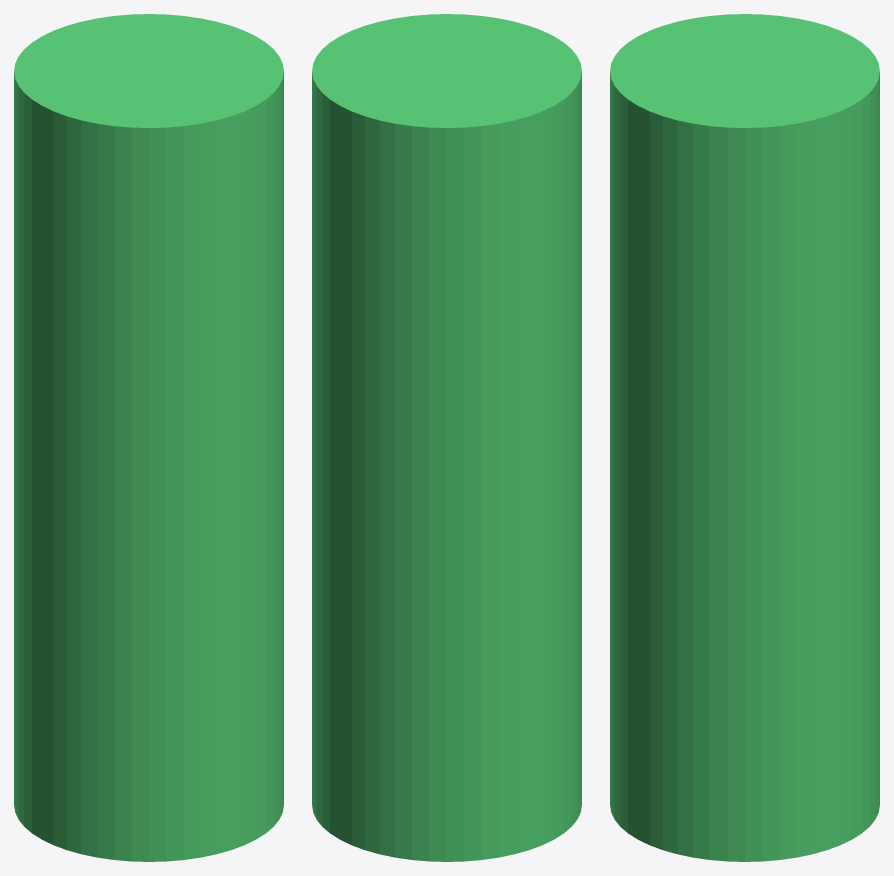
File: lf_fx_lods.gltf
The picture shows the model from 3 angles, left to right: view 1: azimuth 30°, elevation 25°; view 2: azimuth 150°, elevation 25°; view 3: azimuth 270°, elevation 25°; orthographic projection.
Visible parts, largest first — view 1: lf_fx_lods; view 2: lf_fx_lods; view 3: lf_fx_lods.
Part boxes in pixels (box(x1,y1,x2,y2)): lf_fx_lods: box(14, 14, 283, 861); lf_fx_lods: box(312, 14, 581, 861); lf_fx_lods: box(610, 14, 879, 861).
Size of what is drawn, in the model's own units: 0.4 by 1.2 by 0.4.
